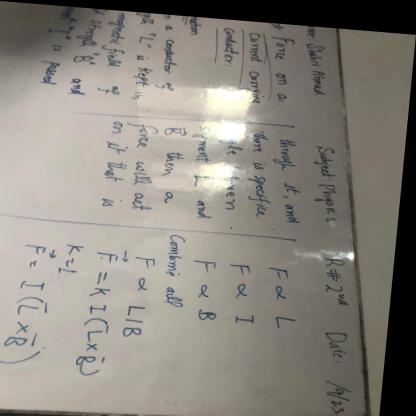Handwritten text: (33, 2, 81, 91), (60, 10, 106, 101), (273, 124, 313, 223), (129, 113, 167, 213), (187, 116, 222, 223), (231, 17, 269, 114), (100, 115, 137, 211), (243, 122, 278, 216), (313, 137, 350, 220), (102, 10, 134, 100), (166, 224, 200, 303), (268, 27, 302, 103), (131, 26, 160, 105), (156, 20, 187, 90), (161, 144, 189, 203), (125, 299, 161, 343), (330, 318, 361, 356), (221, 19, 244, 63), (201, 300, 230, 325), (277, 308, 310, 329), (269, 259, 303, 278), (137, 249, 164, 269), (198, 252, 231, 268), (239, 303, 264, 322), (234, 256, 262, 271)
